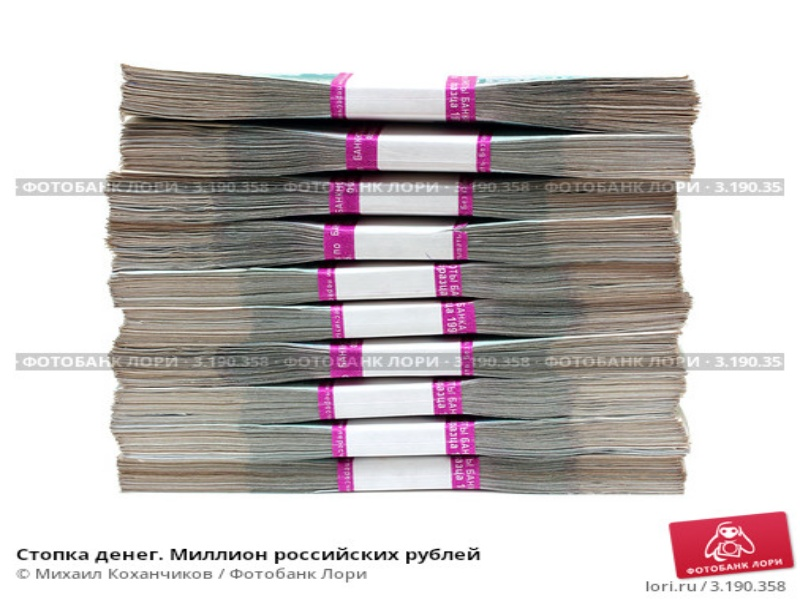cash: (105, 63, 702, 493)
